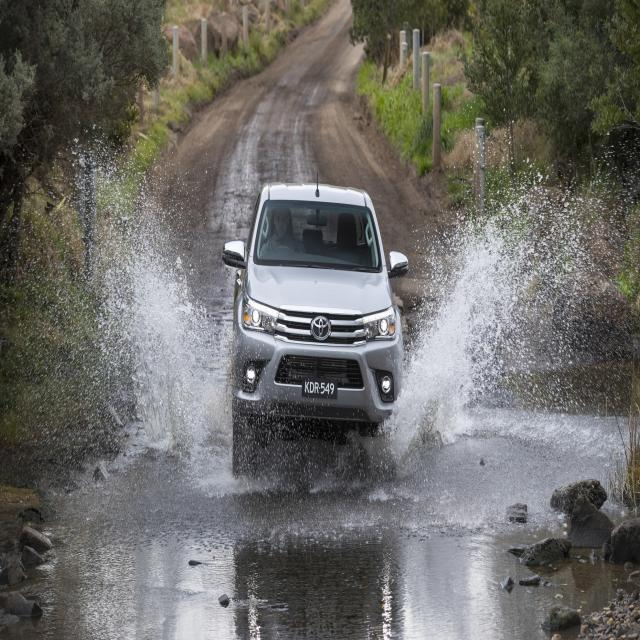light_vehicle: (206, 159, 424, 473)
